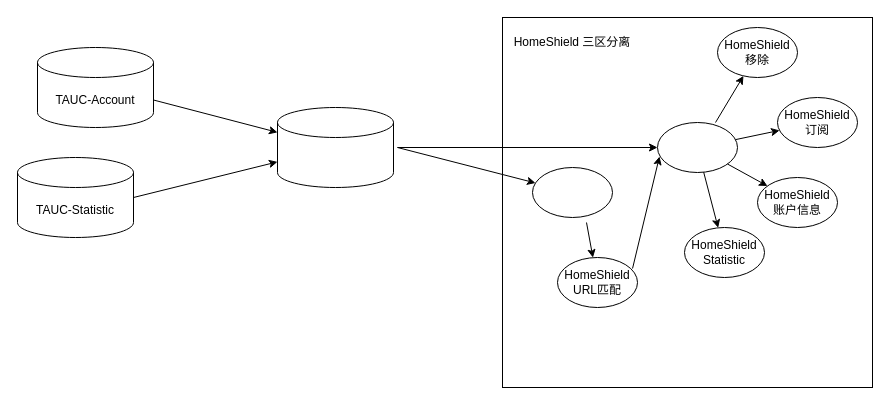
Some shapes in this 890 by 405 pixel diagram are drawn without their labels. Each missing label, with the centre of its shape:
"HomeShield 管理" goes at [697,147].
"TAUC-Network" goes at [335,147].
"国家码查询" goes at [572,192].
